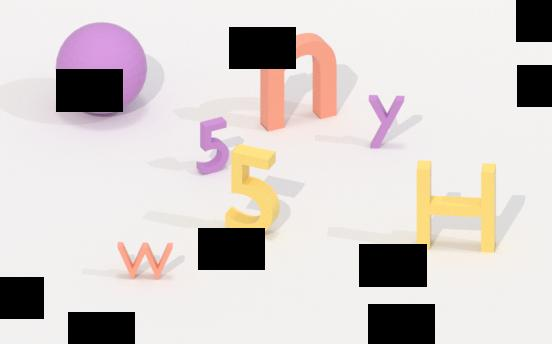5: (225, 142, 281, 240), (196, 113, 230, 179)
H-hoa: (413, 156, 501, 258)
Y: (366, 93, 406, 151)
cau: (53, 20, 150, 118)
n: (255, 30, 340, 136)
w: (116, 239, 175, 285)
